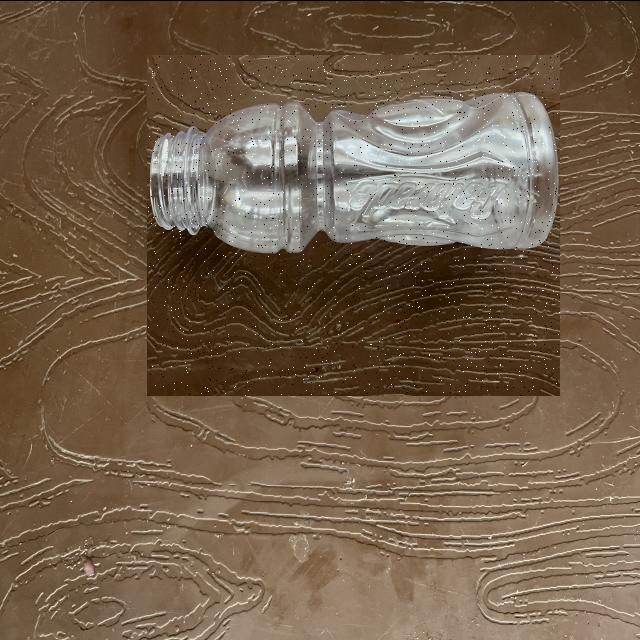PET_ClearBottle: (147, 54, 560, 395)
